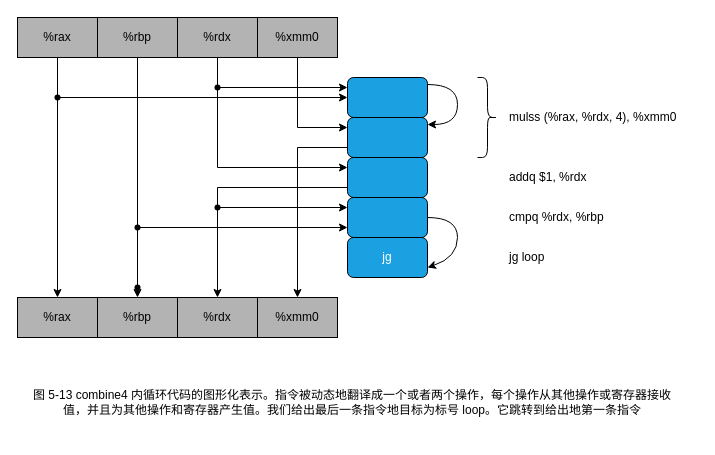
Some shapes in this 715 by 455 pixel diagram are drawn without their labels. Here are the shapes that lost their labels. From the top down, the box of each, then its label:
(346, 76, 428, 118): load
(346, 116, 428, 158): mul
(346, 156, 428, 198): add
(346, 196, 428, 238): cmp
